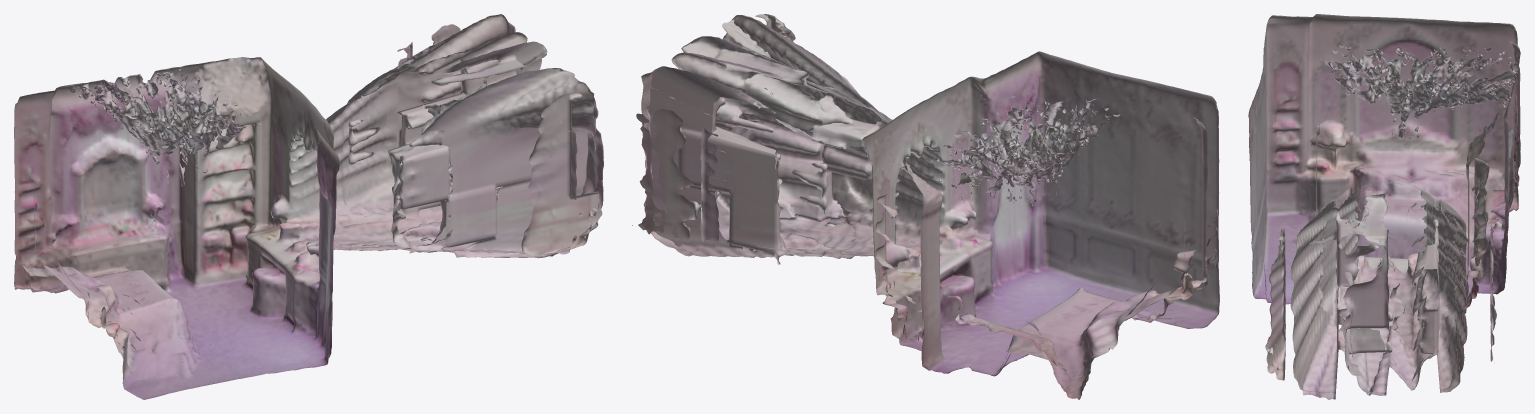
Rendered from pegasus-palace-bedroom-1-1-pano_collider.glb.
3 views of the same model, side by side, from view 1: azimuth 30°, elevation 25°; view 2: azimuth 150°, elevation 25°; view 3: azimuth 270°, elevation 25° (orthographic). The views are drawn at different scales.
Visible parts, largest first — view 1: world; view 2: world; view 3: world.
Part boxes in pixels (x1=…): world: x1=14, y1=14, x2=603, y2=399; world: x1=632, y1=14, x2=1219, y2=399; world: x1=1248, y1=14, x2=1520, y2=399.
Size of the model in its own units: 8.72 by 3.71 by 4.4.
